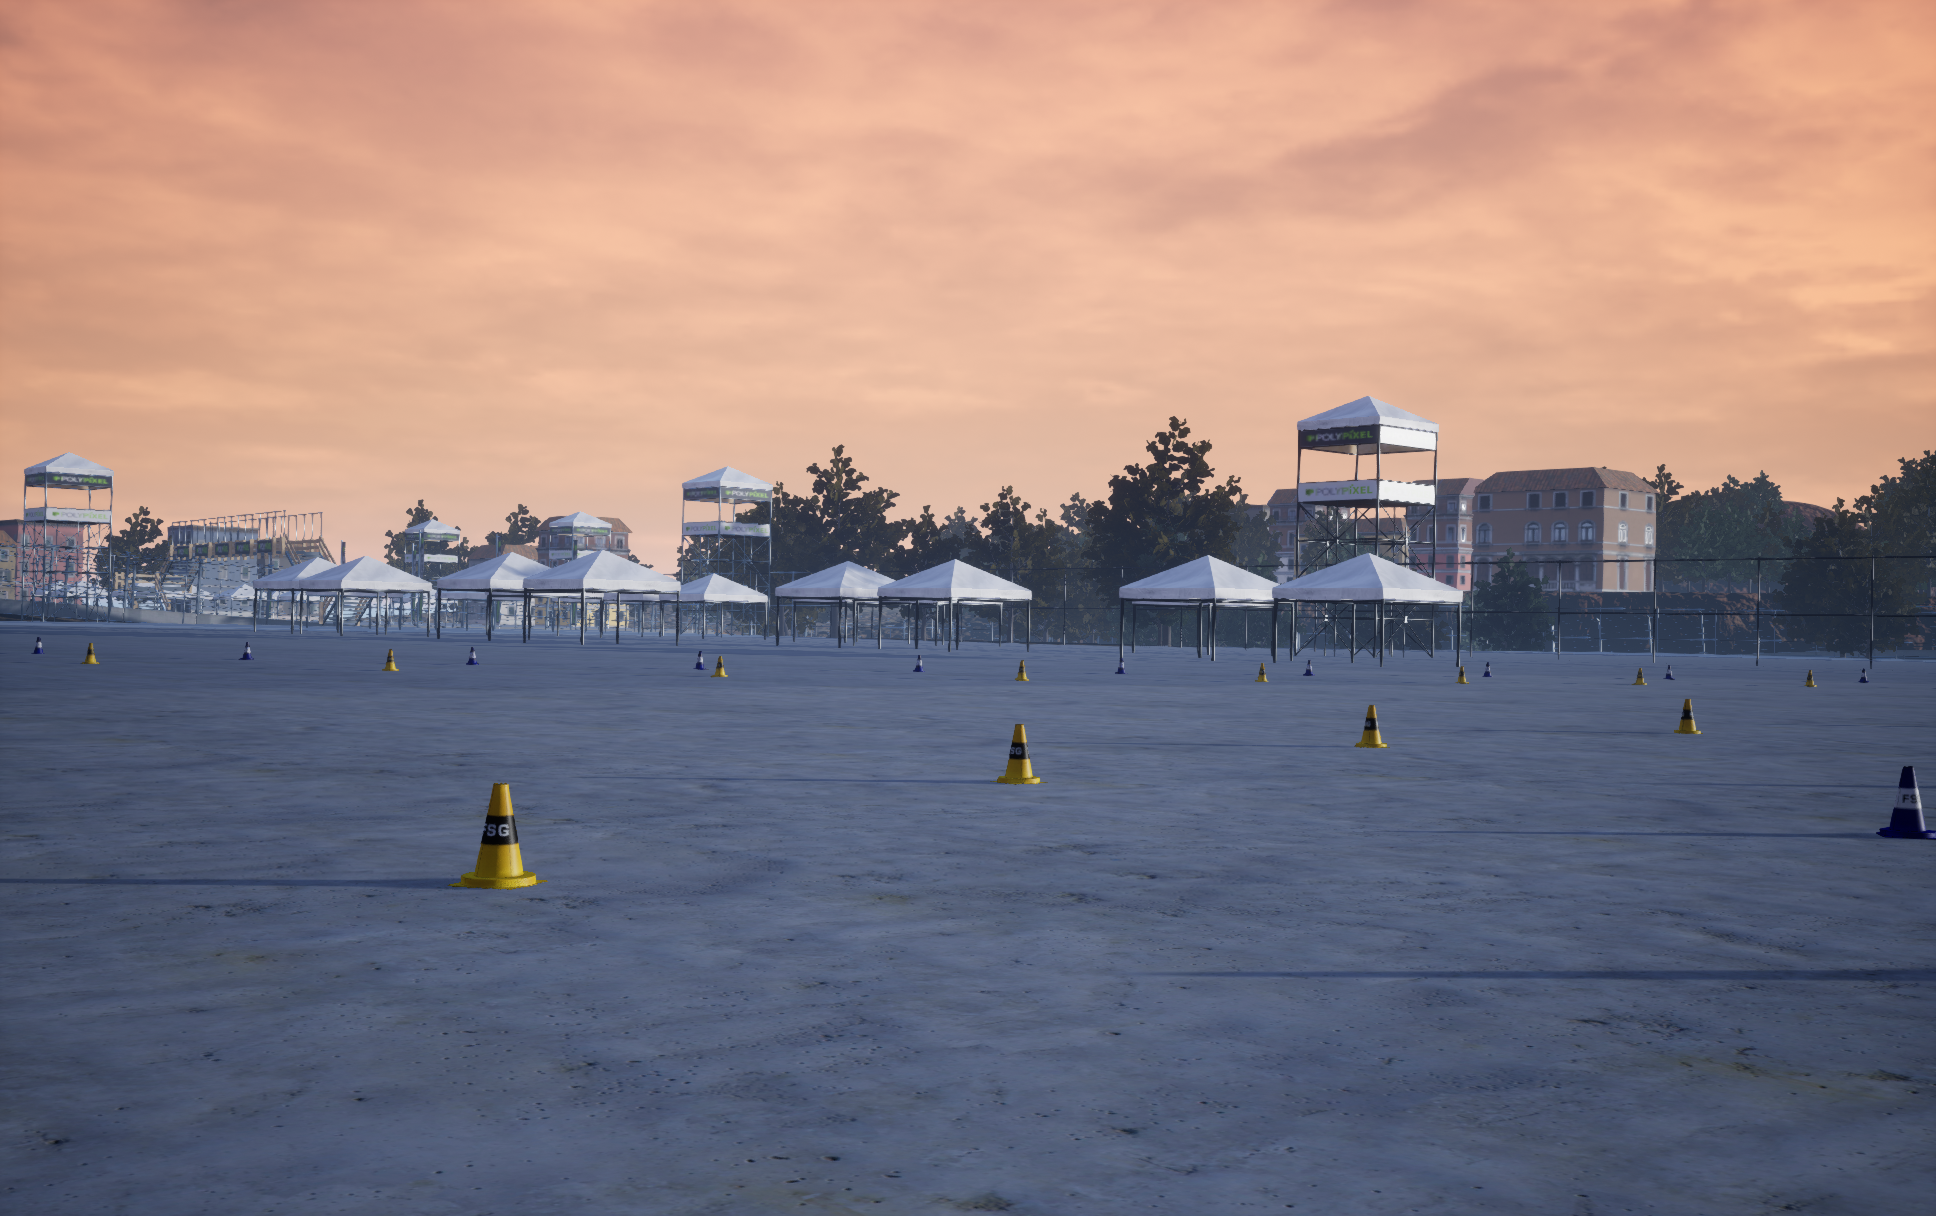blue: (447, 783, 546, 890), (990, 724, 1046, 785), (1355, 705, 1390, 747), (1674, 699, 1702, 733), (80, 643, 99, 663), (710, 656, 727, 677), (382, 649, 398, 670), (1016, 660, 1028, 679), (1255, 663, 1268, 681)
yellow: (1876, 766, 1935, 839), (693, 651, 707, 670), (466, 647, 478, 664)
